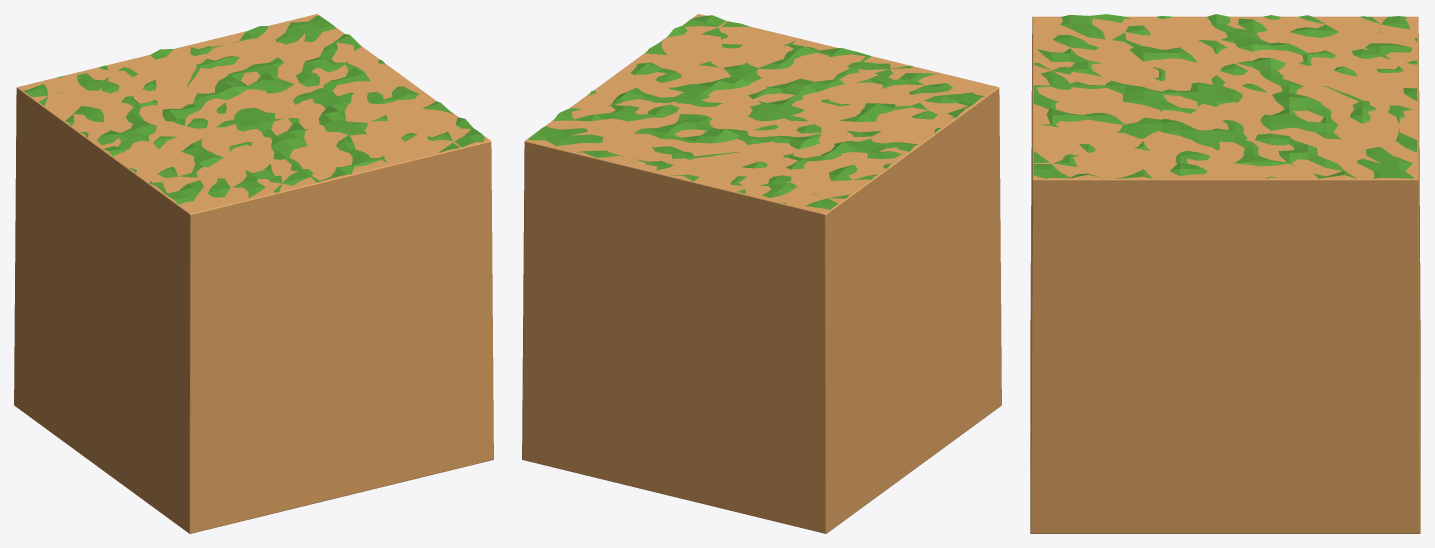
The model's file is PatchyDirt1.0.fbx.
3 renders of one model, left to right at view 1: azimuth 30°, elevation 25°; view 2: azimuth 150°, elevation 25°; view 3: azimuth 270°, elevation 25°, orthographic. The views are drawn at different scales.
Parts seen in each view (by area): view 1: PatchyDirt, Plane.001; view 2: PatchyDirt, Plane.001; view 3: PatchyDirt, Plane.001.
Boxes of the visible parts, <box> form: PatchyDirt: <box>14,14,493,533</box>; Plane.001: <box>23,15,484,204</box>; PatchyDirt: <box>522,14,1001,533</box>; Plane.001: <box>528,15,984,209</box>; PatchyDirt: <box>1030,16,1420,533</box>; Plane.001: <box>1033,14,1417,178</box>.
Size of the model in its own units: 1000 by 1015 by 1000.
